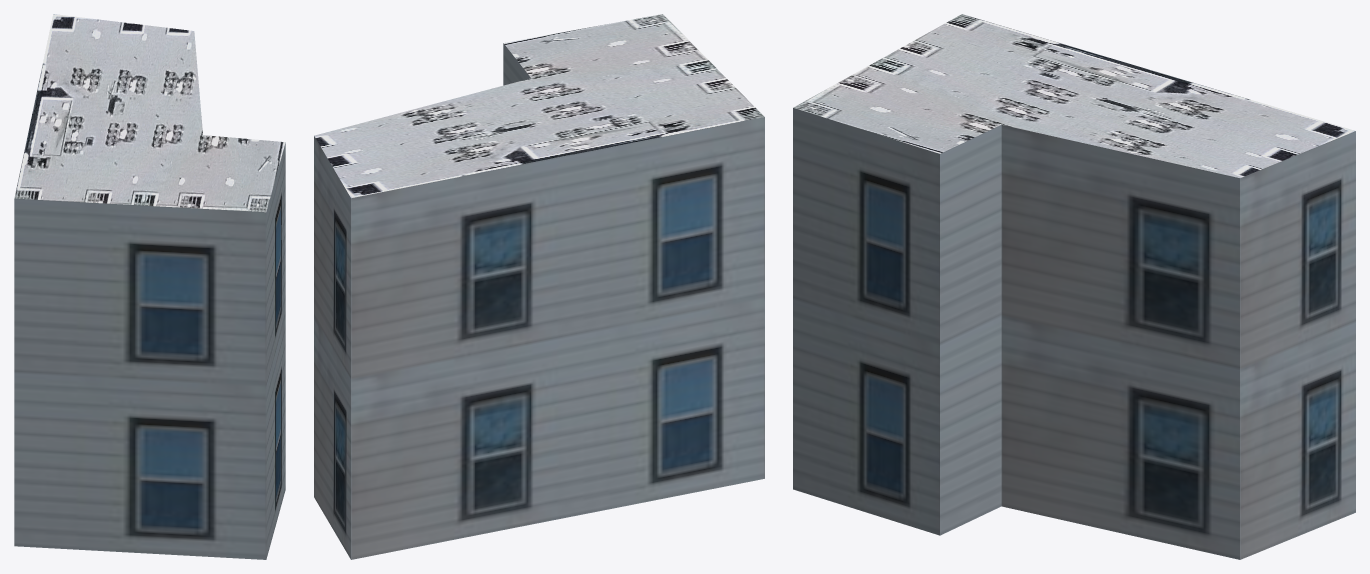
File: ResTex__138.fbx
3 renders of one model, left to right at view 1: azimuth 30°, elevation 25°; view 2: azimuth 150°, elevation 25°; view 3: azimuth 270°, elevation 25°, orthographic. The views are drawn at different scales.
Parts seen in each view (by area): view 1: CityEngineMaterial_18_m, CityEngineMaterial_4_m; view 2: CityEngineMaterial_18_m, CityEngineMaterial_4_m; view 3: CityEngineMaterial_18_m, CityEngineMaterial_4_m.
Boxes of the visible parts, x1,y1,x2,y2 form: CityEngineMaterial_18_m: [14, 143, 285, 559]; CityEngineMaterial_4_m: [14, 14, 285, 212]; CityEngineMaterial_18_m: [314, 43, 764, 559]; CityEngineMaterial_4_m: [314, 14, 764, 198]; CityEngineMaterial_18_m: [793, 108, 1355, 559]; CityEngineMaterial_4_m: [793, 14, 1355, 177].
Size of the model in its own units: 5.54 by 6 by 8.02.
Materials: 2 (2 with a texture image).
